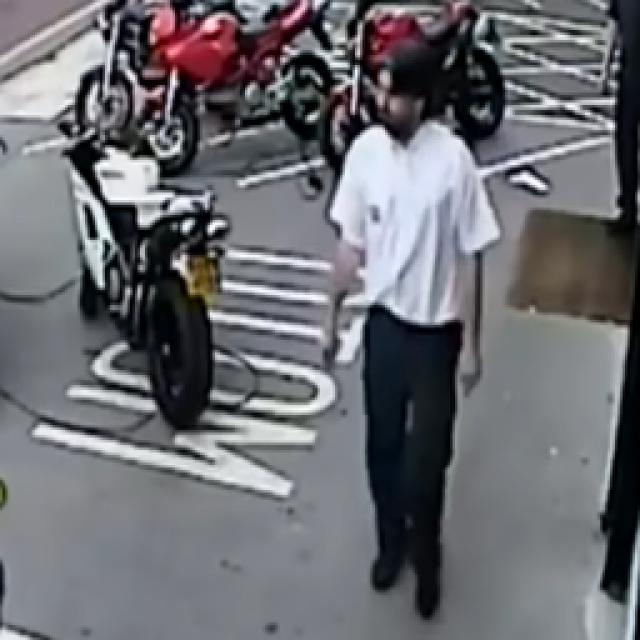person: (322, 42, 495, 615), (608, 0, 635, 230)
